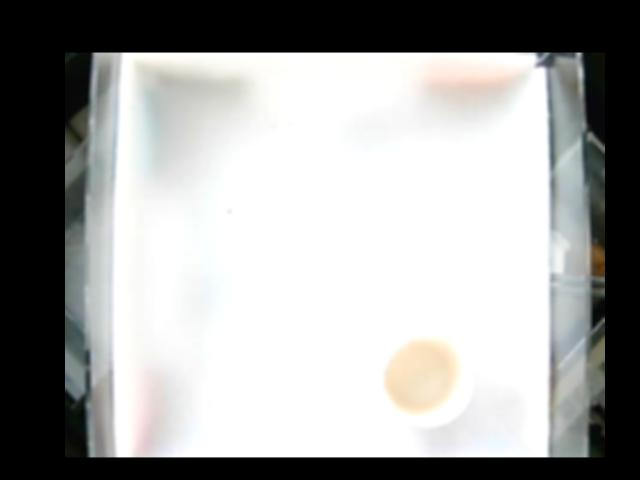Cup: (378, 330, 475, 427)
